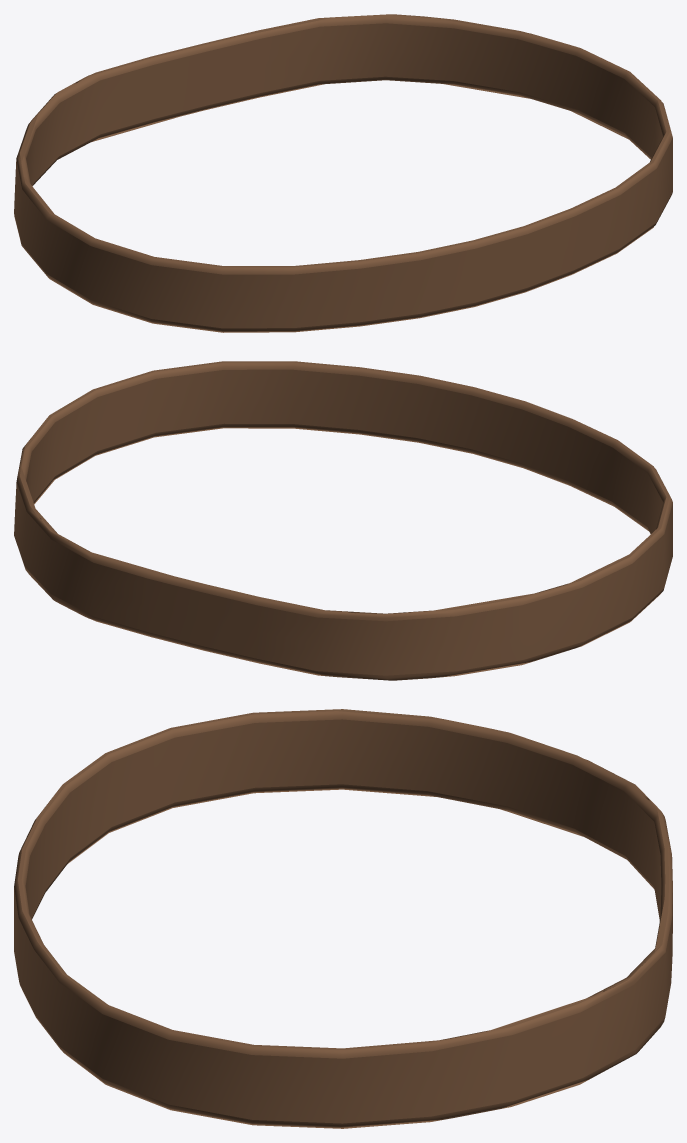
Rendered from armor.tanner.default.gltf.
3 views of the same model, one above another, from view 1: azimuth 30°, elevation 25°; view 2: azimuth 150°, elevation 25°; view 3: azimuth 270°, elevation 25° (orthographic). The views are drawn at different scales.
Parts seen in each view (by area): view 1: tanner.belt; view 2: tanner.belt; view 3: tanner.belt.
Boxes of the visible parts, x1,y1,x2,y2 form: tanner.belt: (14,14,672,332); tanner.belt: (14,361,672,680); tanner.belt: (14,709,672,1128).
Size of the model in its own units: 0.4213 by 0.0454 by 0.3409.
